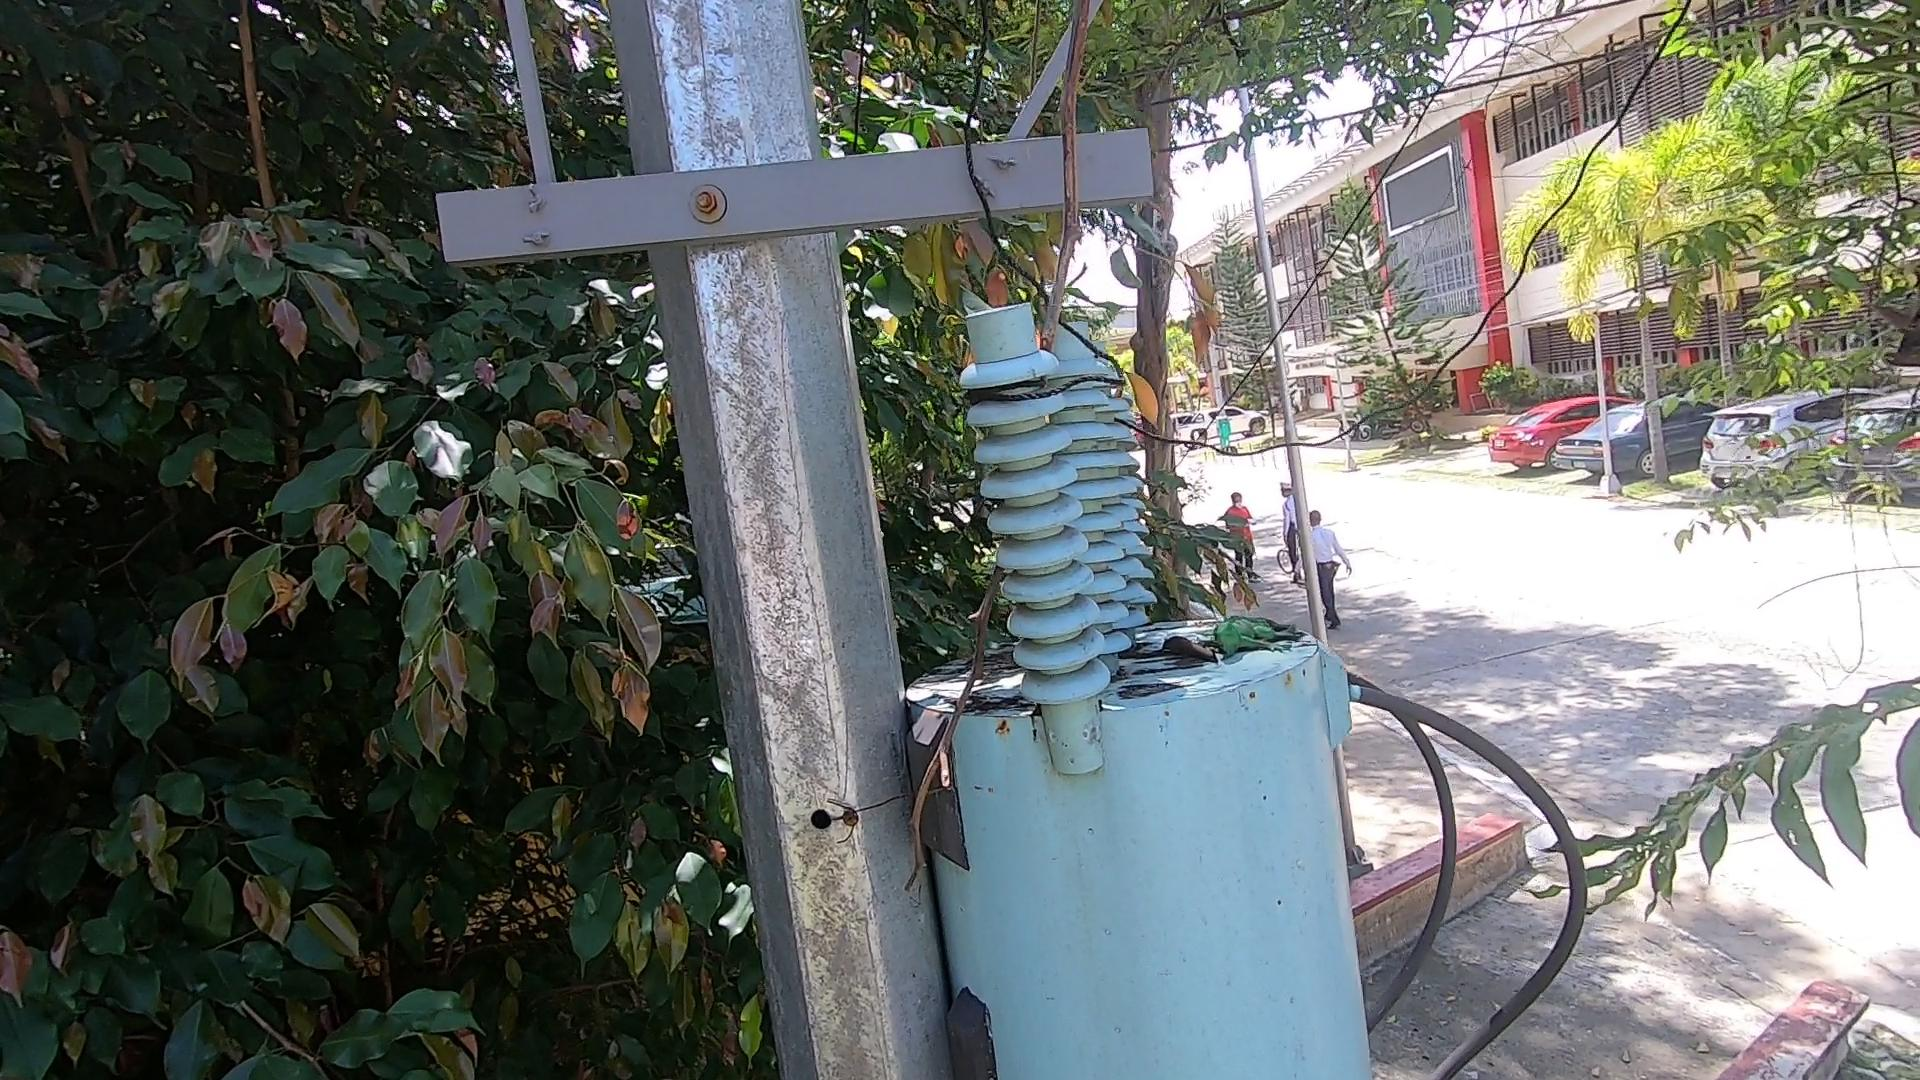leaf: (1156, 628, 1218, 669), (1120, 369, 1170, 419), (963, 636, 1013, 680), (1122, 644, 1156, 665)
tree branch: (796, 3, 1147, 885)
